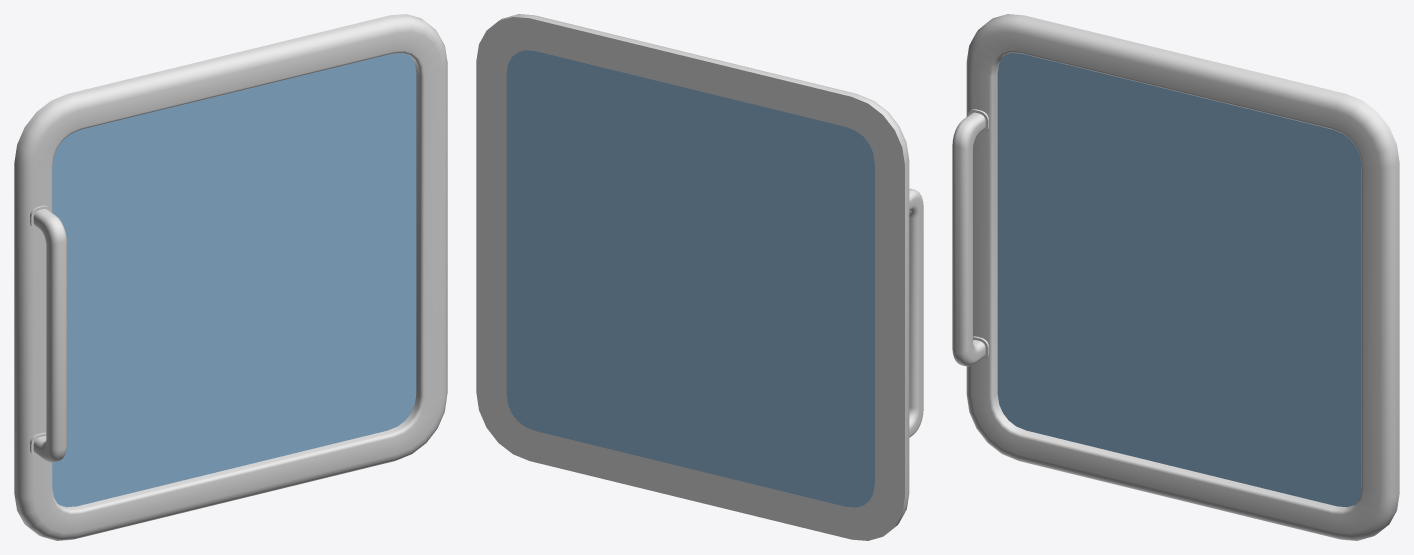
File: FBX_Kitchenette_Oven_Door.fbx
3 renders of one model, left to right at view 1: azimuth 30°, elevation 25°; view 2: azimuth 150°, elevation 25°; view 3: azimuth 330°, elevation 25°, orthographic.
Parts seen in each view (by area): view 1: Walls_Plain.003; view 2: Walls_Plain.003; view 3: Walls_Plain.003.
Boxes of the visible parts, x1,y1,x2,y2 form: Walls_Plain.003: (14, 14, 447, 540); Walls_Plain.003: (476, 14, 923, 540); Walls_Plain.003: (952, 14, 1399, 540).
Size of the model in its own units: 61.29 by 60.5 by 7.46.
